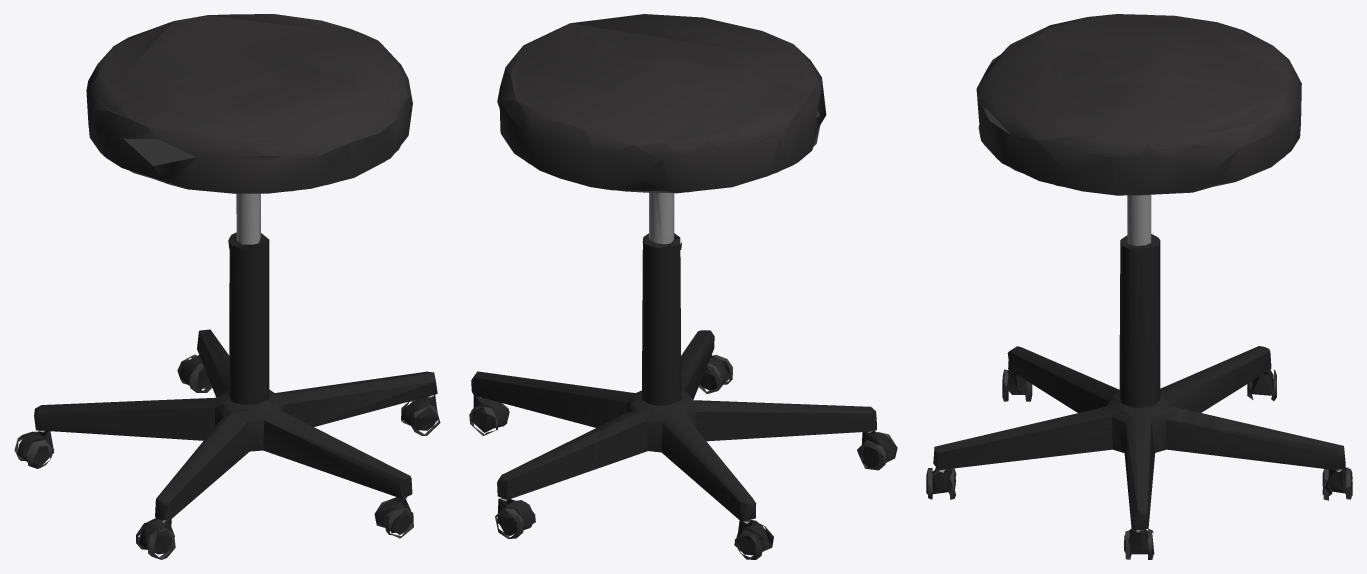
File: simready-stool-padded-vinyl.lite.0eb6512d.glb
The picture shows the model from 3 angles, left to right: view 1: azimuth 30°, elevation 25°; view 2: azimuth 150°, elevation 25°; view 3: azimuth 270°, elevation 25°; orthographic projection.
Visible parts, largest first — view 1: model; view 2: model; view 3: model.
Boxes of the visible parts, x1=… form: model: x1=14, y1=14, x2=440, y2=559; model: x1=469, y1=14, x2=897, y2=559; model: x1=926, y1=14, x2=1352, y2=559.
Size of the model in its own units: 0.5202 by 0.5591 by 0.5375.
5 materials, 4 textured.
